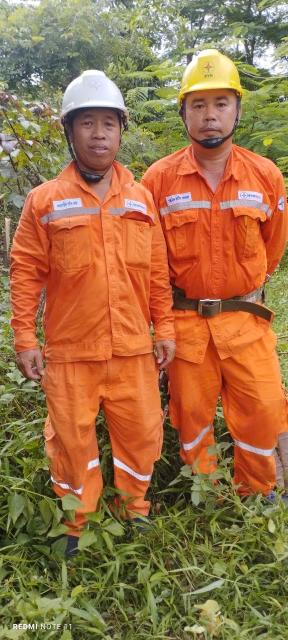harness: (168, 260, 275, 339)
helmet: (52, 60, 143, 130), (165, 51, 255, 108)
